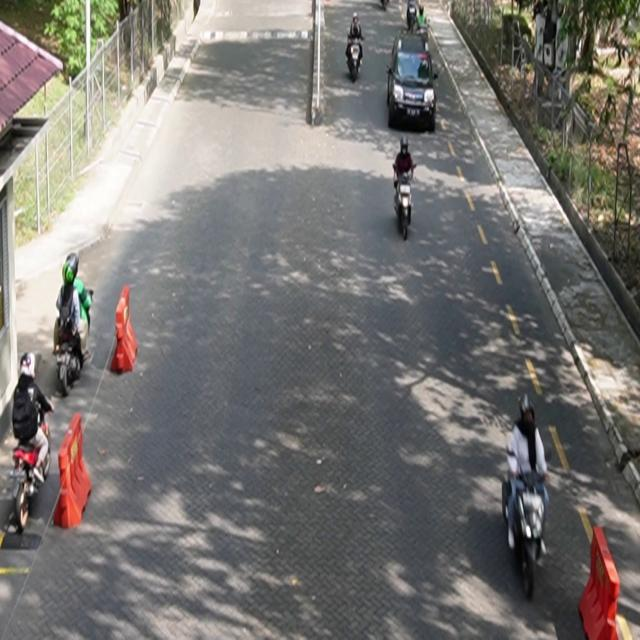car: (387, 29, 439, 132)
